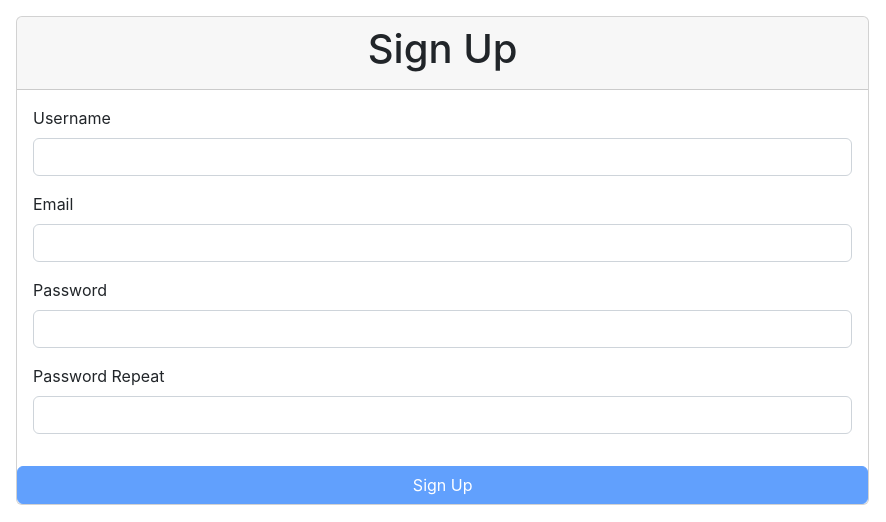
Test: Sign Up Page › Interaction › enables the button when password and password repeat fields have same values
The image size is (886, 522).
Type "user1" into the field labelled "Username" at (443, 157), box [33,138,852,176]
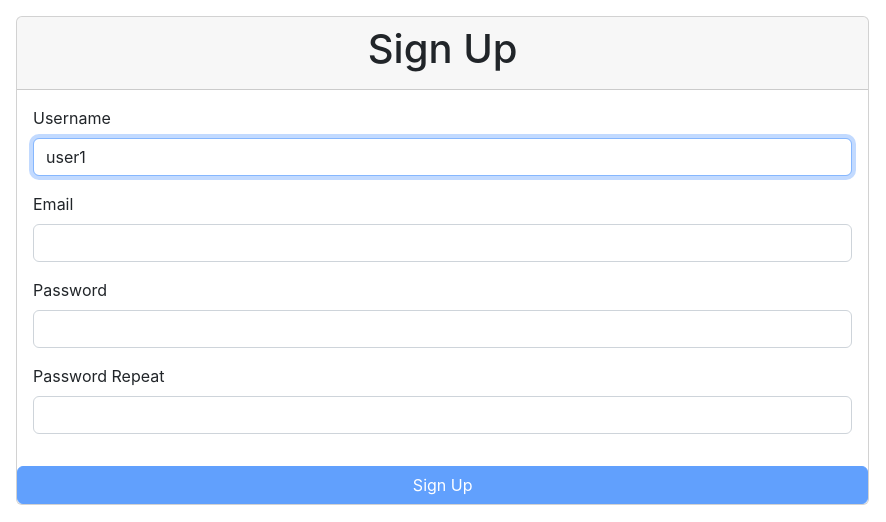
Type "user1@gmail.com" into the field labelled "Email" at (443, 243), box [33,224,852,262]
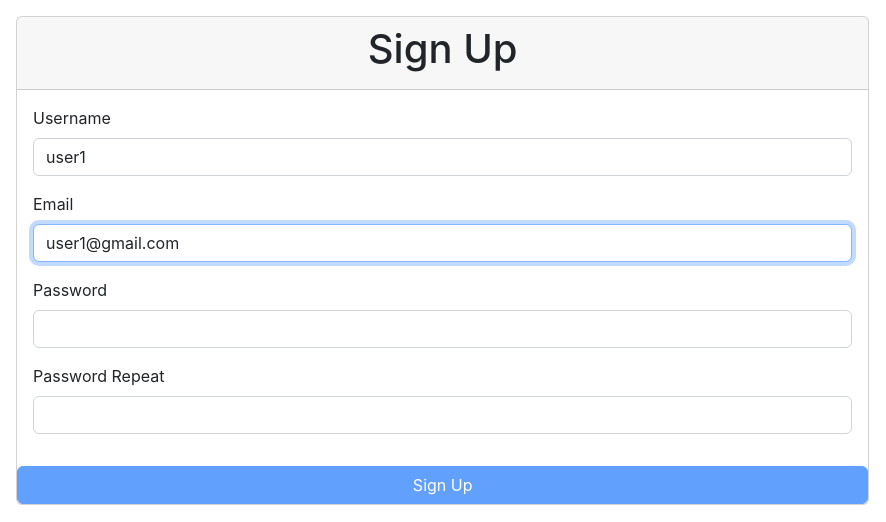
Type "P4ssword" into the password field labelled "Password" at (443, 329), box [33,310,852,348]
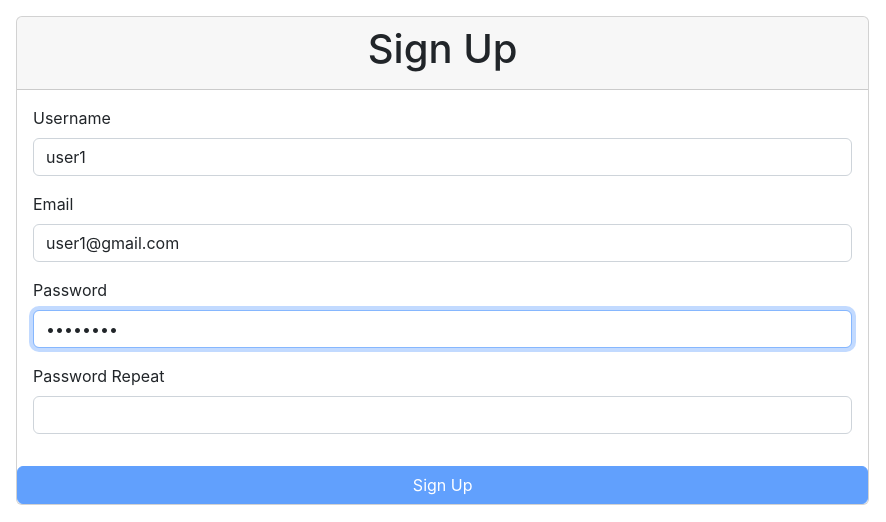
Type "P4ssword" into the password field labelled "Password Repeat" at (443, 415), box [33,396,852,434]
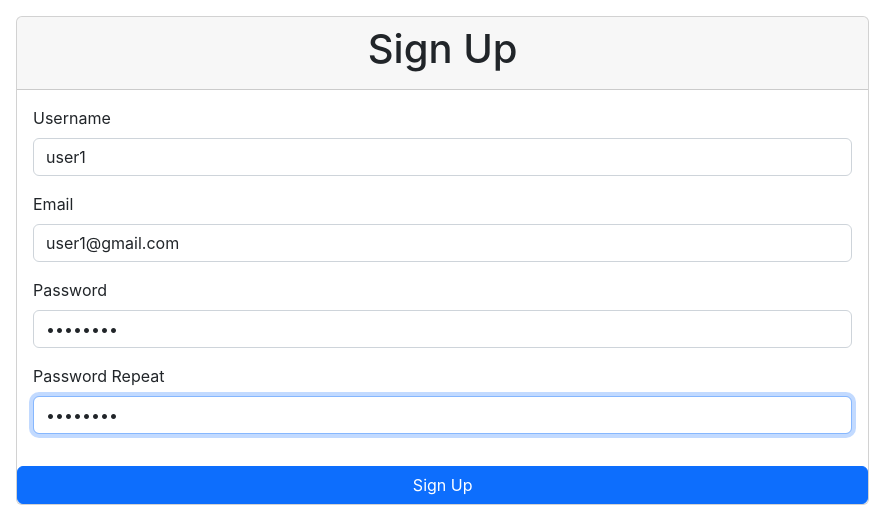
expect the button "Sign Up" is enabled: met, box [17,466,868,504]
